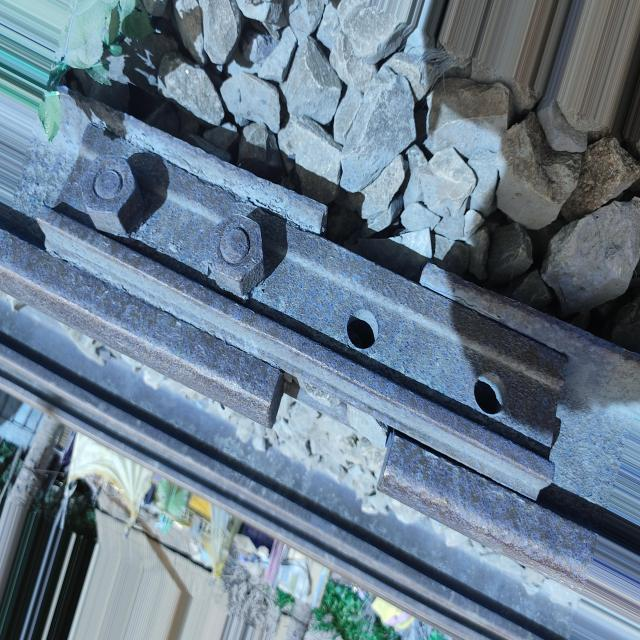Defective Joint: (38, 118, 577, 507)
